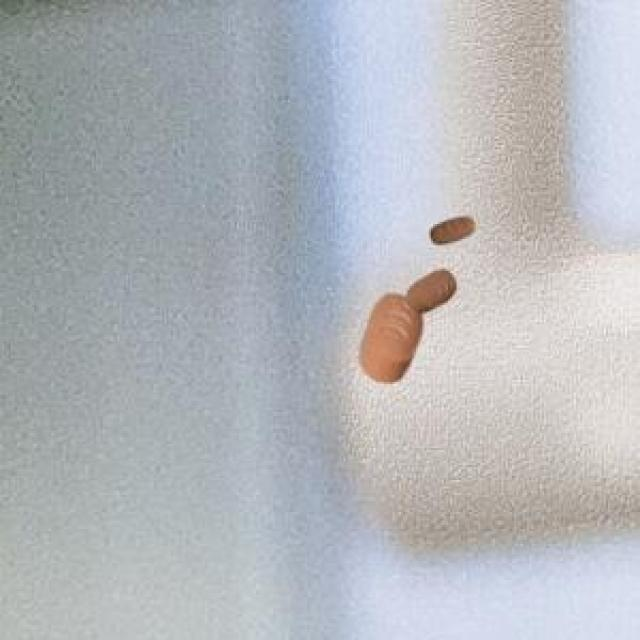Biogesic: (360, 262, 468, 395), (423, 202, 488, 257)
